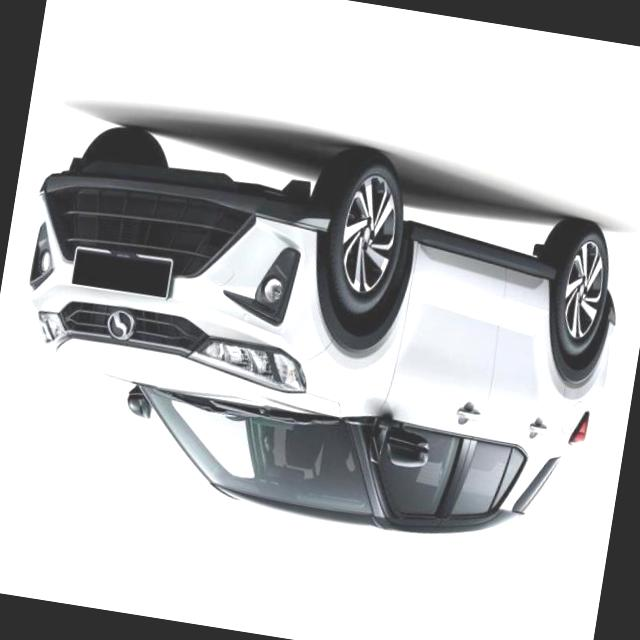PeroduaAtiva: (0, 97, 638, 563)
